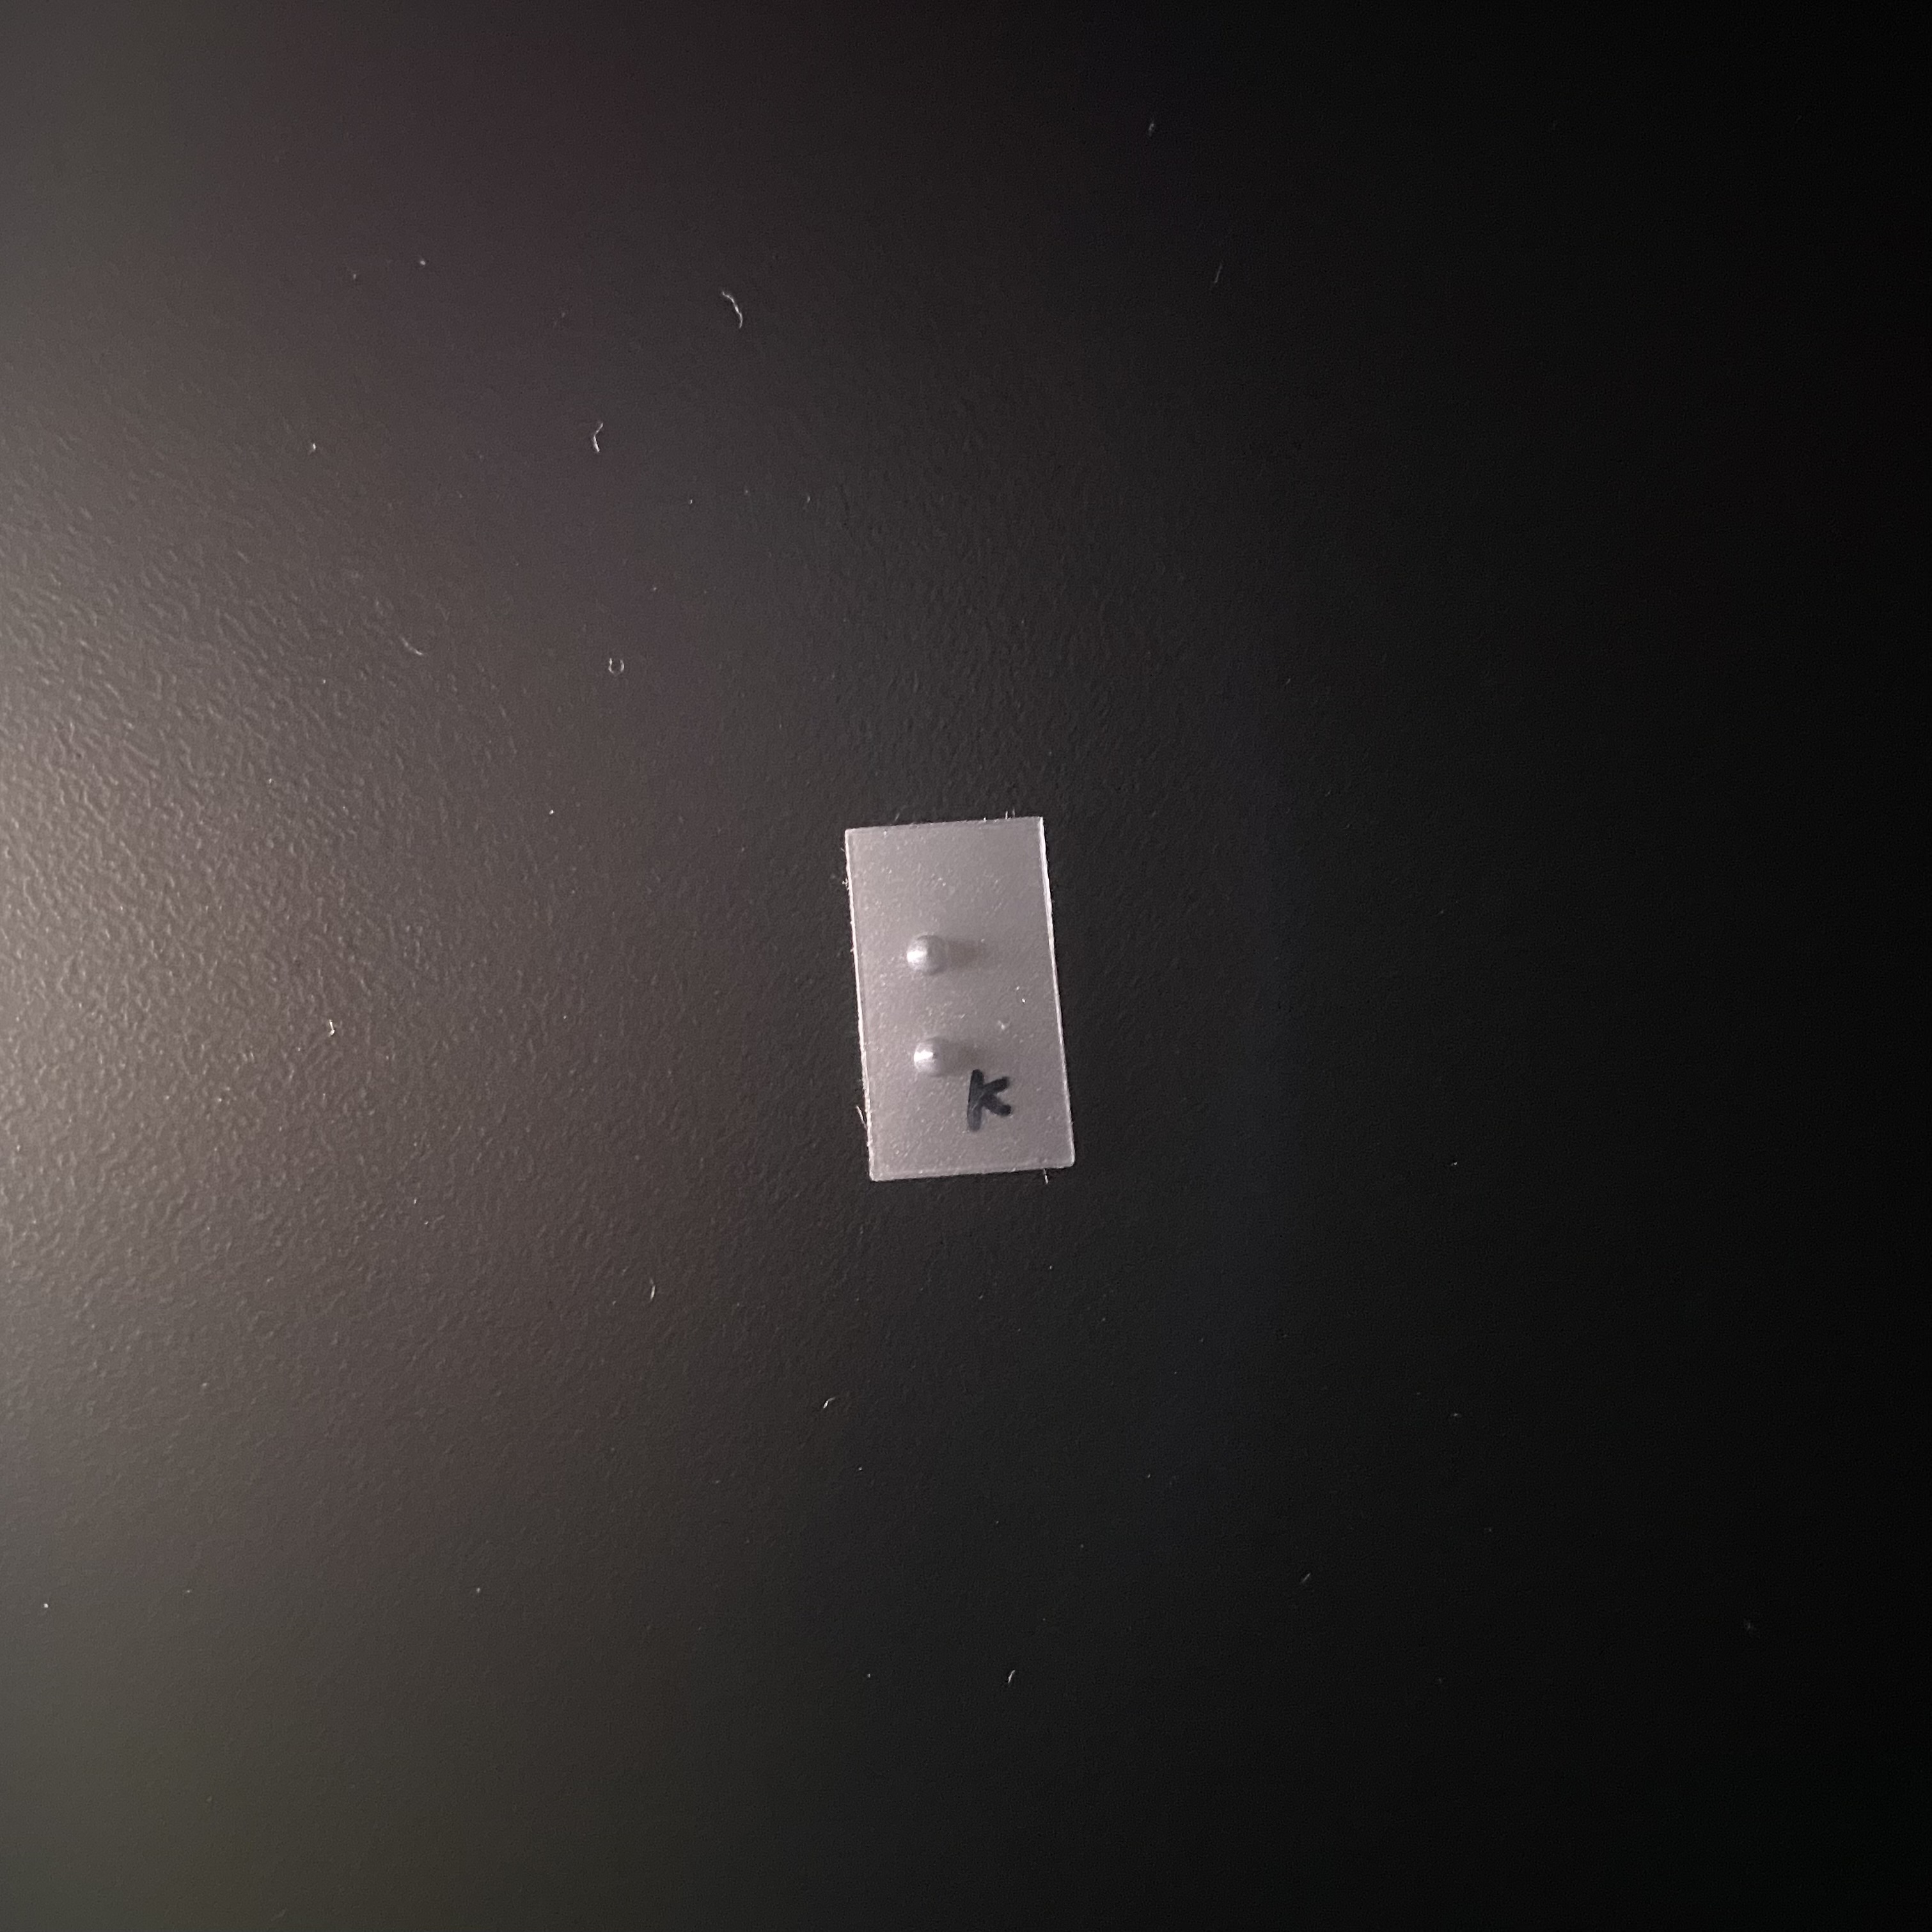k: (902, 923, 1021, 1086)
